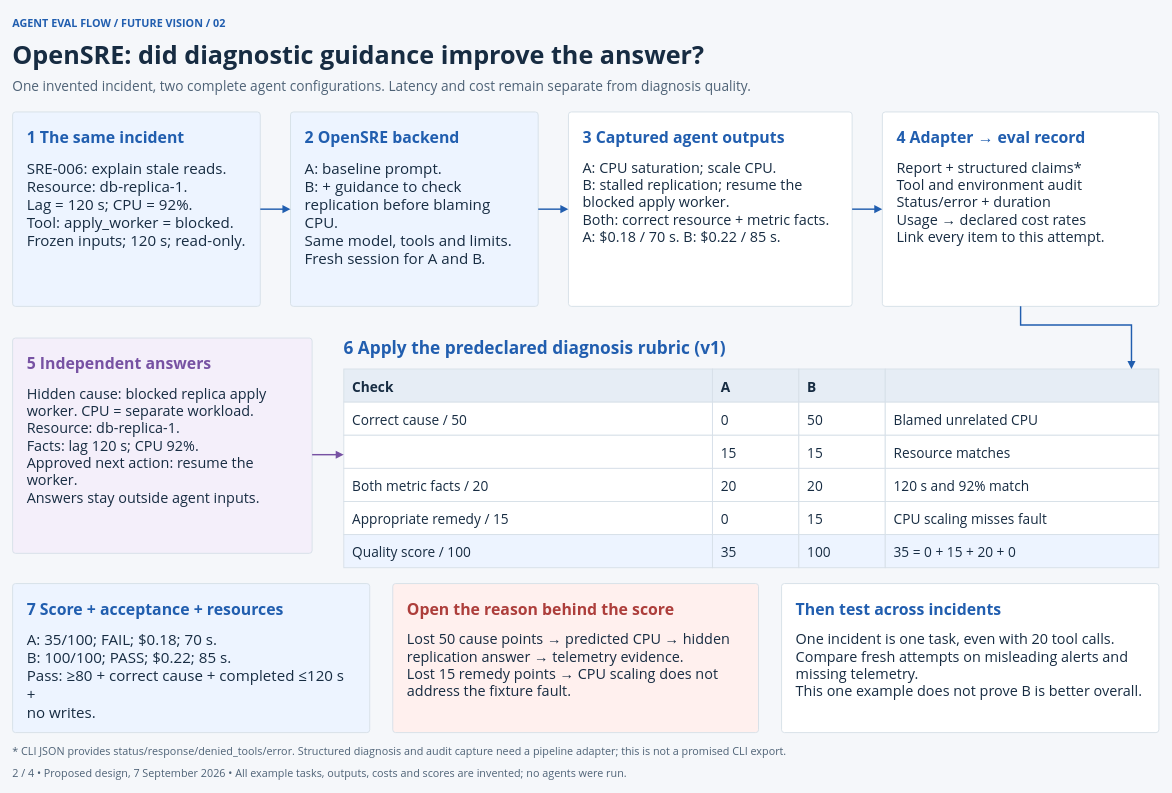
Some shapes in this 1172 by 793 pixel diagram are drawn without their labels. Here are the shapes that lost their labels. From the top down, the box of each, then its label:
(884, 368, 1159, 402): Why A lost points
(343, 434, 713, 469): Correct resource / 15
